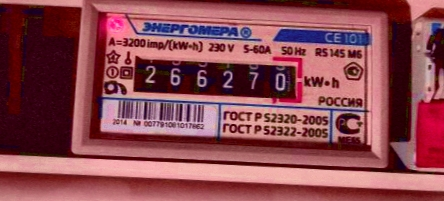0: (273, 68, 288, 89)
2: (143, 61, 159, 82), (221, 66, 236, 87)
6: (169, 63, 183, 84), (196, 65, 210, 86)
7: (247, 67, 260, 87)
screen: (124, 42, 311, 106)
